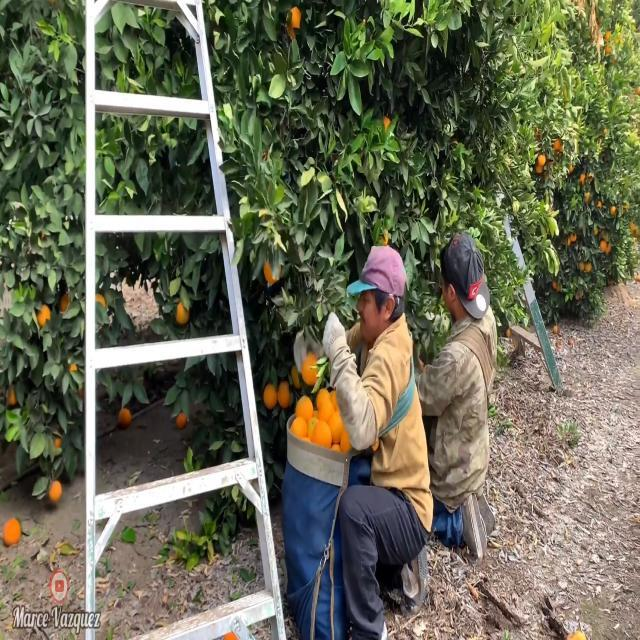Jeruk Sudah Matang: (262, 256, 286, 290), (277, 379, 294, 409), (260, 382, 278, 409), (64, 358, 80, 388), (174, 297, 192, 323), (36, 301, 51, 331), (4, 382, 20, 409), (49, 481, 62, 502), (380, 116, 392, 138)
